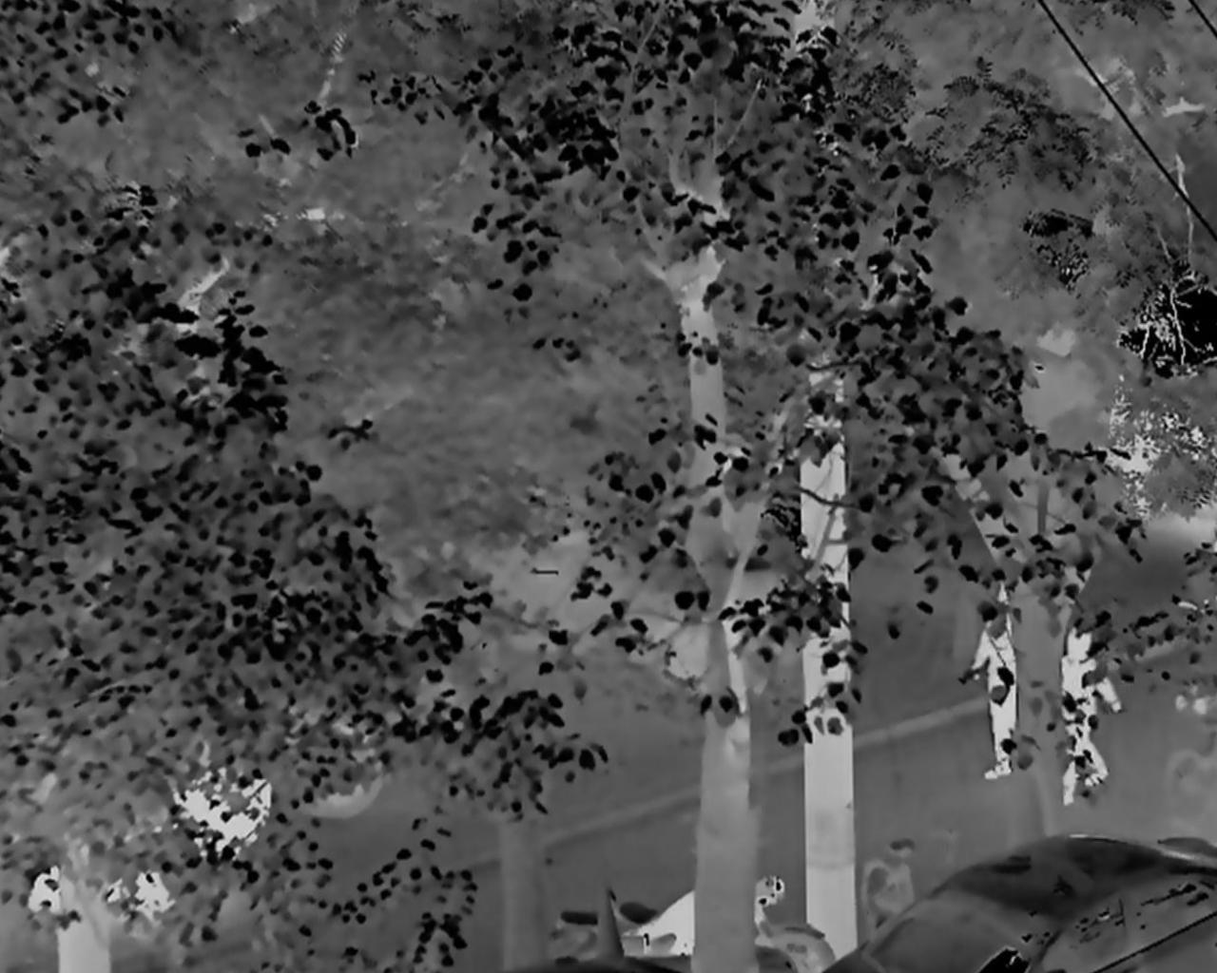person: (1056, 622, 1122, 803), (962, 582, 1019, 781)
